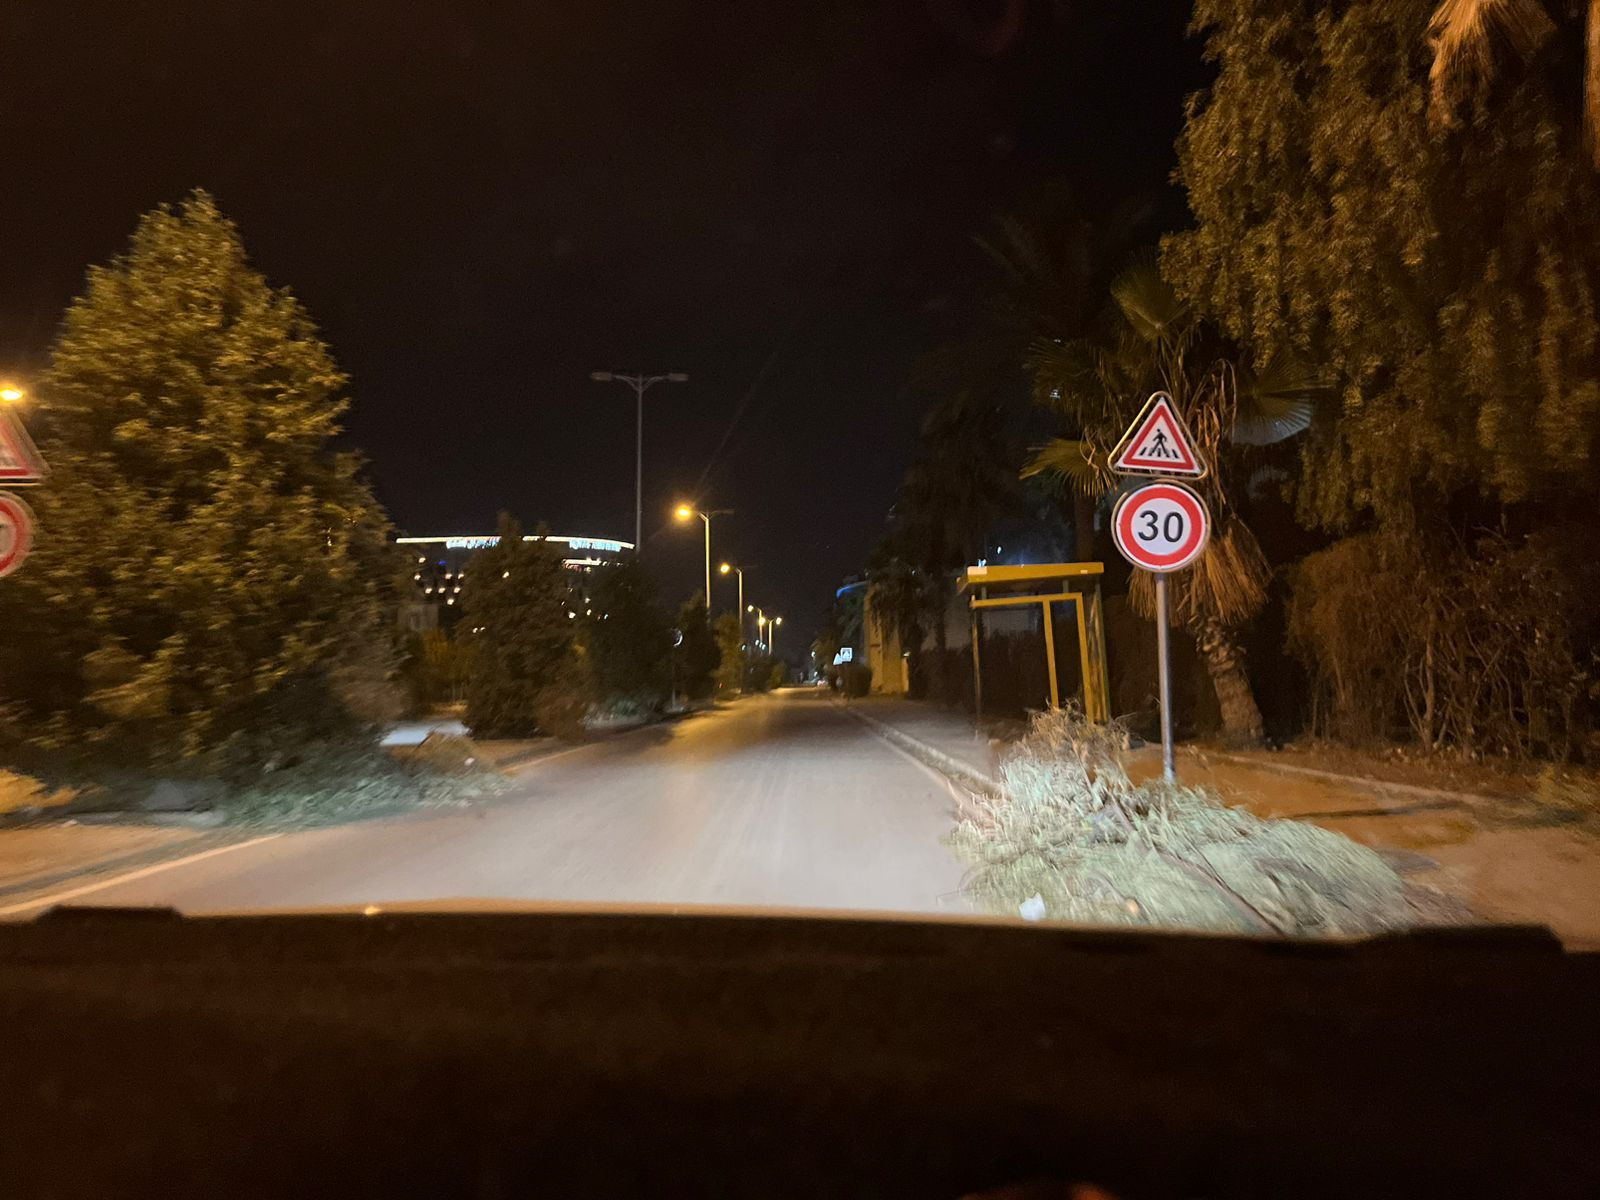SpeedLimit30: (1110, 478, 1212, 575)
